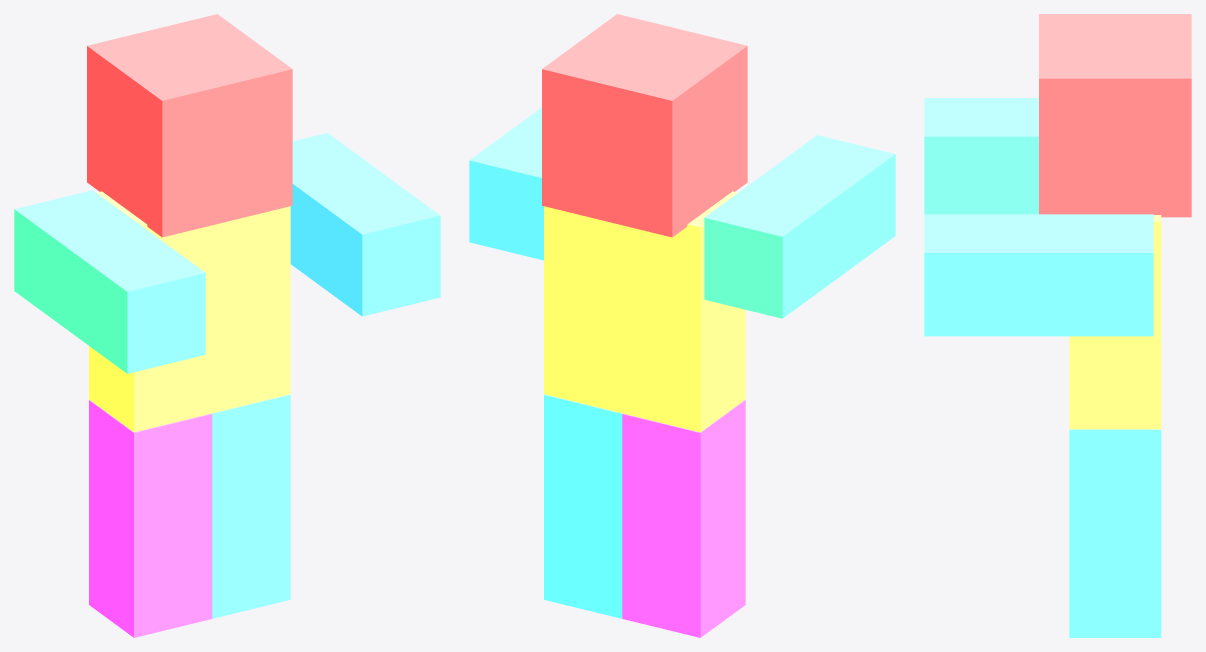
File: PlayerModelScene.gltf
The picture shows the model from 3 angles, left to right: view 1: azimuth 30°, elevation 25°; view 2: azimuth 150°, elevation 25°; view 3: azimuth 270°, elevation 25°; orthographic projection.
Visible parts, largest first — view 1: Head, Leg-Right, Arm-Right, Chest, Arm-Left, Leg-Left; view 2: Head, Chest, Leg-Right, Arm-Right, Leg-Left, Arm-Left; view 3: Head, Arm-Left, Leg-Left, Arm-Right, Chest.
Boxes of the visible parts, x1=… form: Head: x1=87, y1=14, x2=292, y2=237; Leg-Right: x1=89, y1=400, x2=212, y2=637; Arm-Right: x1=14, y1=190, x2=205, y2=373; Chest: x1=89, y1=191, x2=290, y2=432; Arm-Left: x1=290, y1=133, x2=440, y2=316; Leg-Left: x1=212, y1=394, x2=290, y2=618; Head: x1=542, y1=14, x2=747, y2=237; Chest: x1=544, y1=191, x2=745, y2=432; Leg-Right: x1=622, y1=400, x2=745, y2=637; Arm-Right: x1=704, y1=135, x2=895, y2=318; Leg-Left: x1=544, y1=394, x2=622, y2=618; Arm-Left: x1=469, y1=107, x2=543, y2=260; Head: x1=1039, y1=14, x2=1191, y2=217; Arm-Left: x1=924, y1=214, x2=1153, y2=336; Leg-Left: x1=1069, y1=429, x2=1161, y2=637; Arm-Right: x1=924, y1=98, x2=1038, y2=214; Chest: x1=1069, y1=215, x2=1161, y2=429.
Size of the model in its own units: 1.44 by 2.39 by 1.05.
